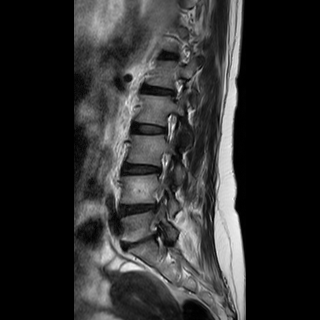LFS0: (157, 107, 182, 146)
